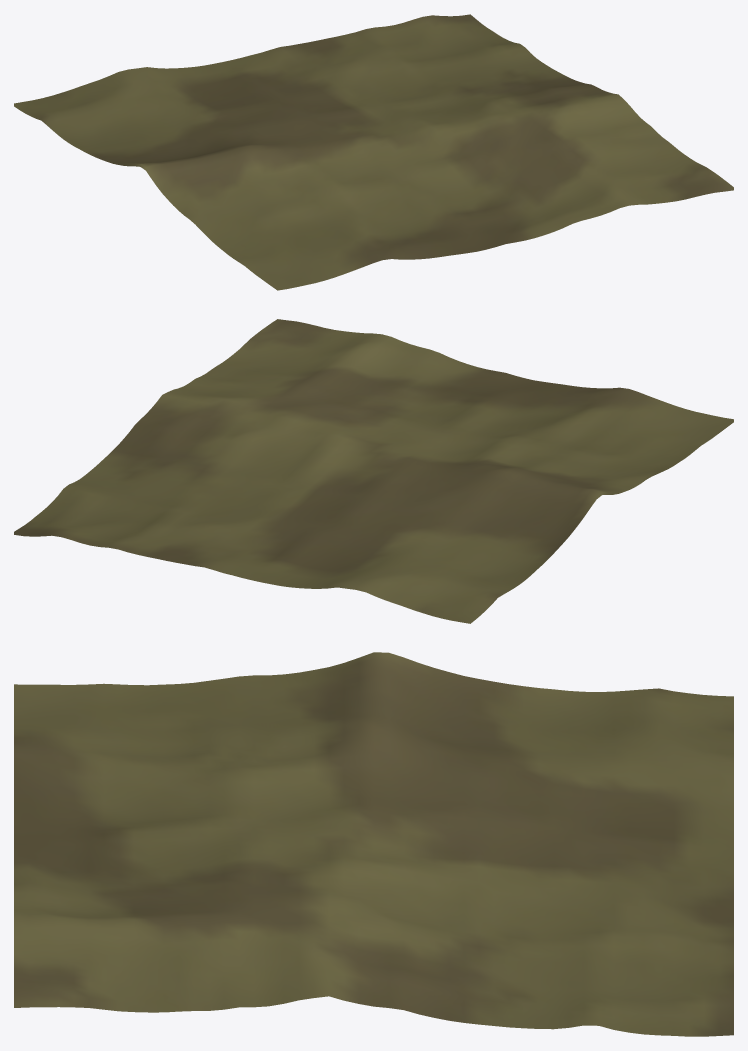
Rendered from land_m_00_03.glb.
3 renders of one model, top to bottom at view 1: azimuth 30°, elevation 25°; view 2: azimuth 150°, elevation 25°; view 3: azimuth 270°, elevation 25°, orthographic. The views are drawn at different scales.
Visible parts, largest first — view 1: land_m_00_03; view 2: land_m_00_03; view 3: land_m_00_03.
Part boxes in pixels (x1,y1,x2,y2): land_m_00_03: (14,14,733,290); land_m_00_03: (14,319,733,623); land_m_00_03: (14,652,733,1036).
Bounding box in the file's own units: 960 × 118 × 960.
